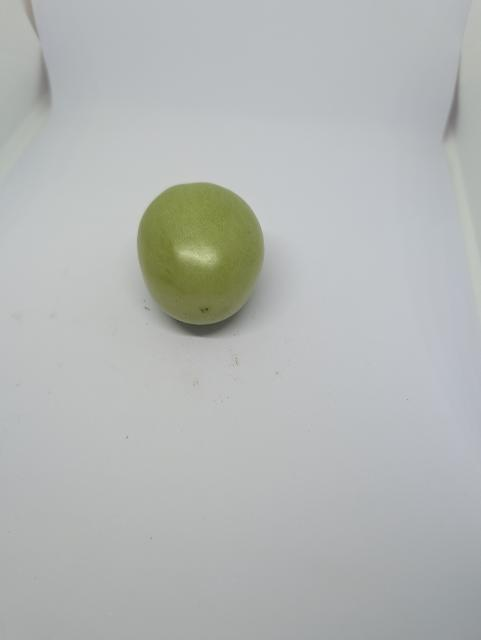green: (134, 181, 276, 336)
